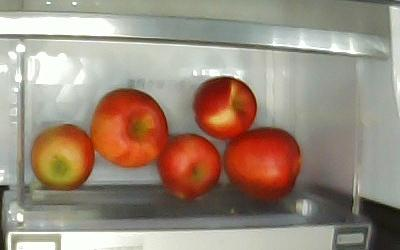apple: (91, 88, 169, 168), (224, 128, 300, 200), (157, 133, 222, 201), (31, 124, 95, 190), (193, 77, 257, 139)
